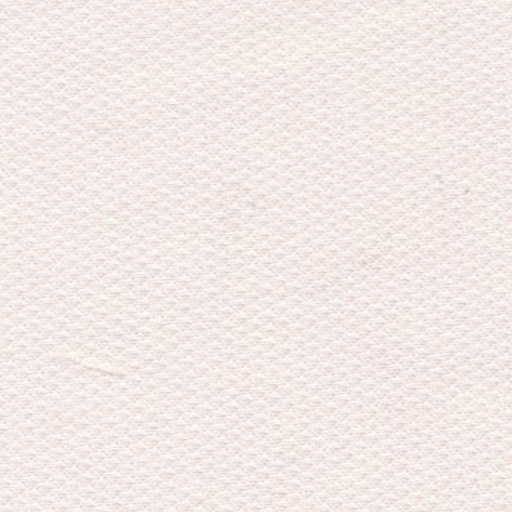DuanSha: (52, 328, 141, 402)
